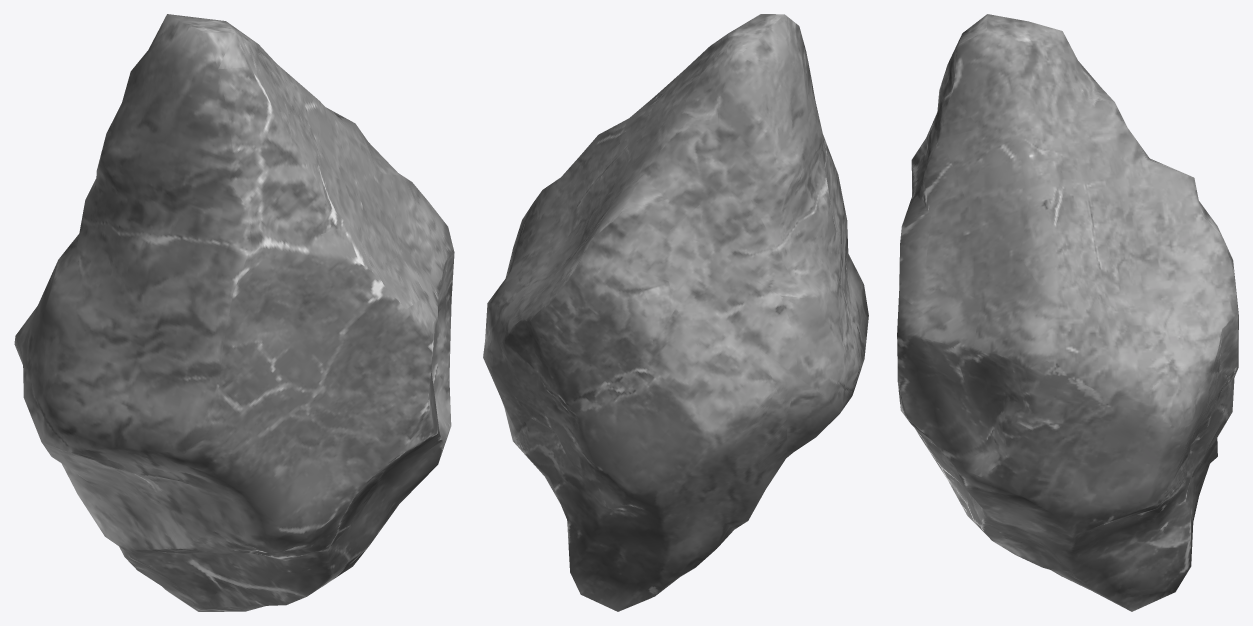
The model's file is rock_07.glb.
3 views of the same model, side by side, from view 1: azimuth 30°, elevation 25°; view 2: azimuth 150°, elevation 25°; view 3: azimuth 270°, elevation 25° (orthographic). The views are drawn at different scales.
Parts seen in each view (by area): view 1: rock_07; view 2: rock_07; view 3: rock_07.
Part boxes in pixels (box(x1,y1,x2,y2)): rock_07: box(14, 14, 454, 611); rock_07: box(483, 14, 868, 611); rock_07: box(897, 14, 1238, 611).
Size of the model in its own units: 1.17 by 1.88 by 1.07.
1 material, 1 textured.
